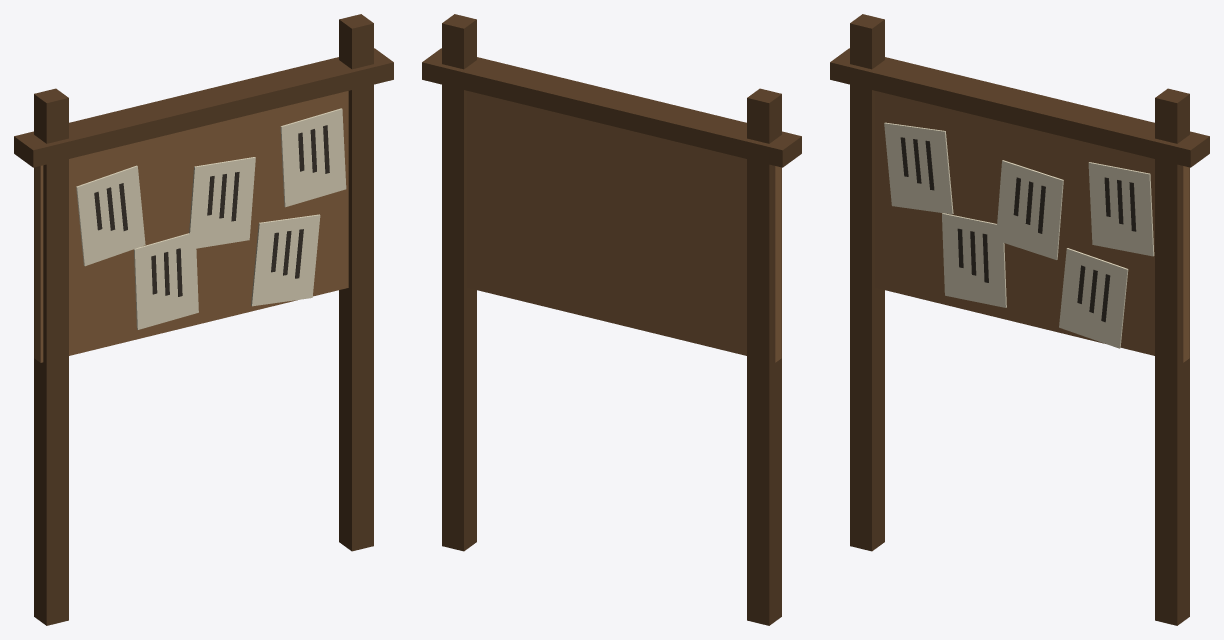
File: notice-board.glb
3 views of the same model, side by side, from view 1: azimuth 30°, elevation 25°; view 2: azimuth 150°, elevation 25°; view 3: azimuth 330°, elevation 25° (orthographic).
Bounding box in the file's own units: 1.3 × 1.8 × 0.12.
